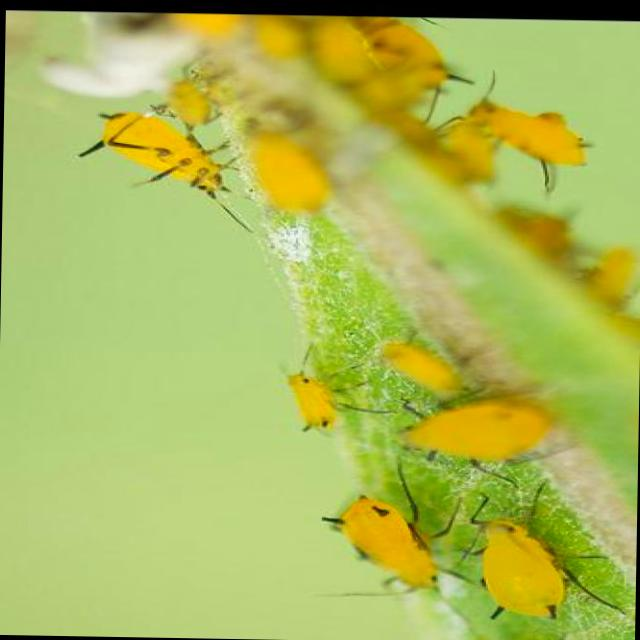Aphids: (440, 468, 604, 626), (69, 96, 254, 230), (305, 456, 461, 594), (262, 369, 339, 435)
